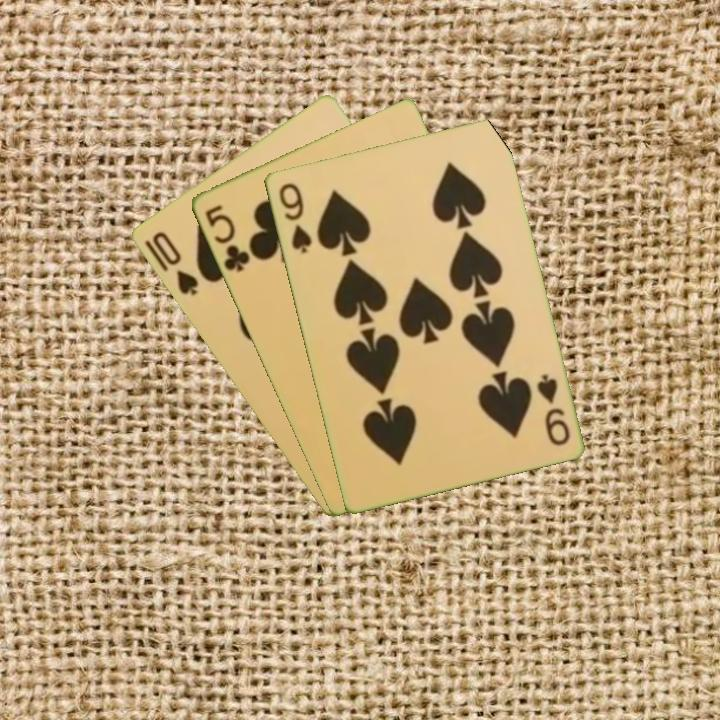10s: (148, 228, 201, 298)
5c: (201, 201, 253, 275)
9s: (532, 370, 573, 449), (274, 179, 314, 256)
